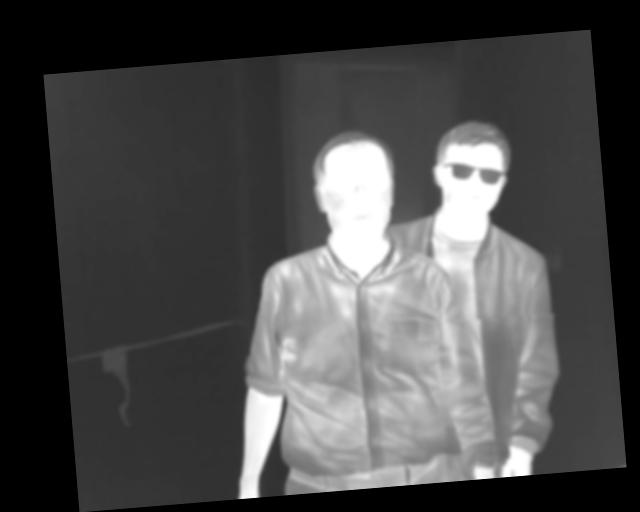face: (309, 127, 398, 245), (427, 116, 516, 223)
